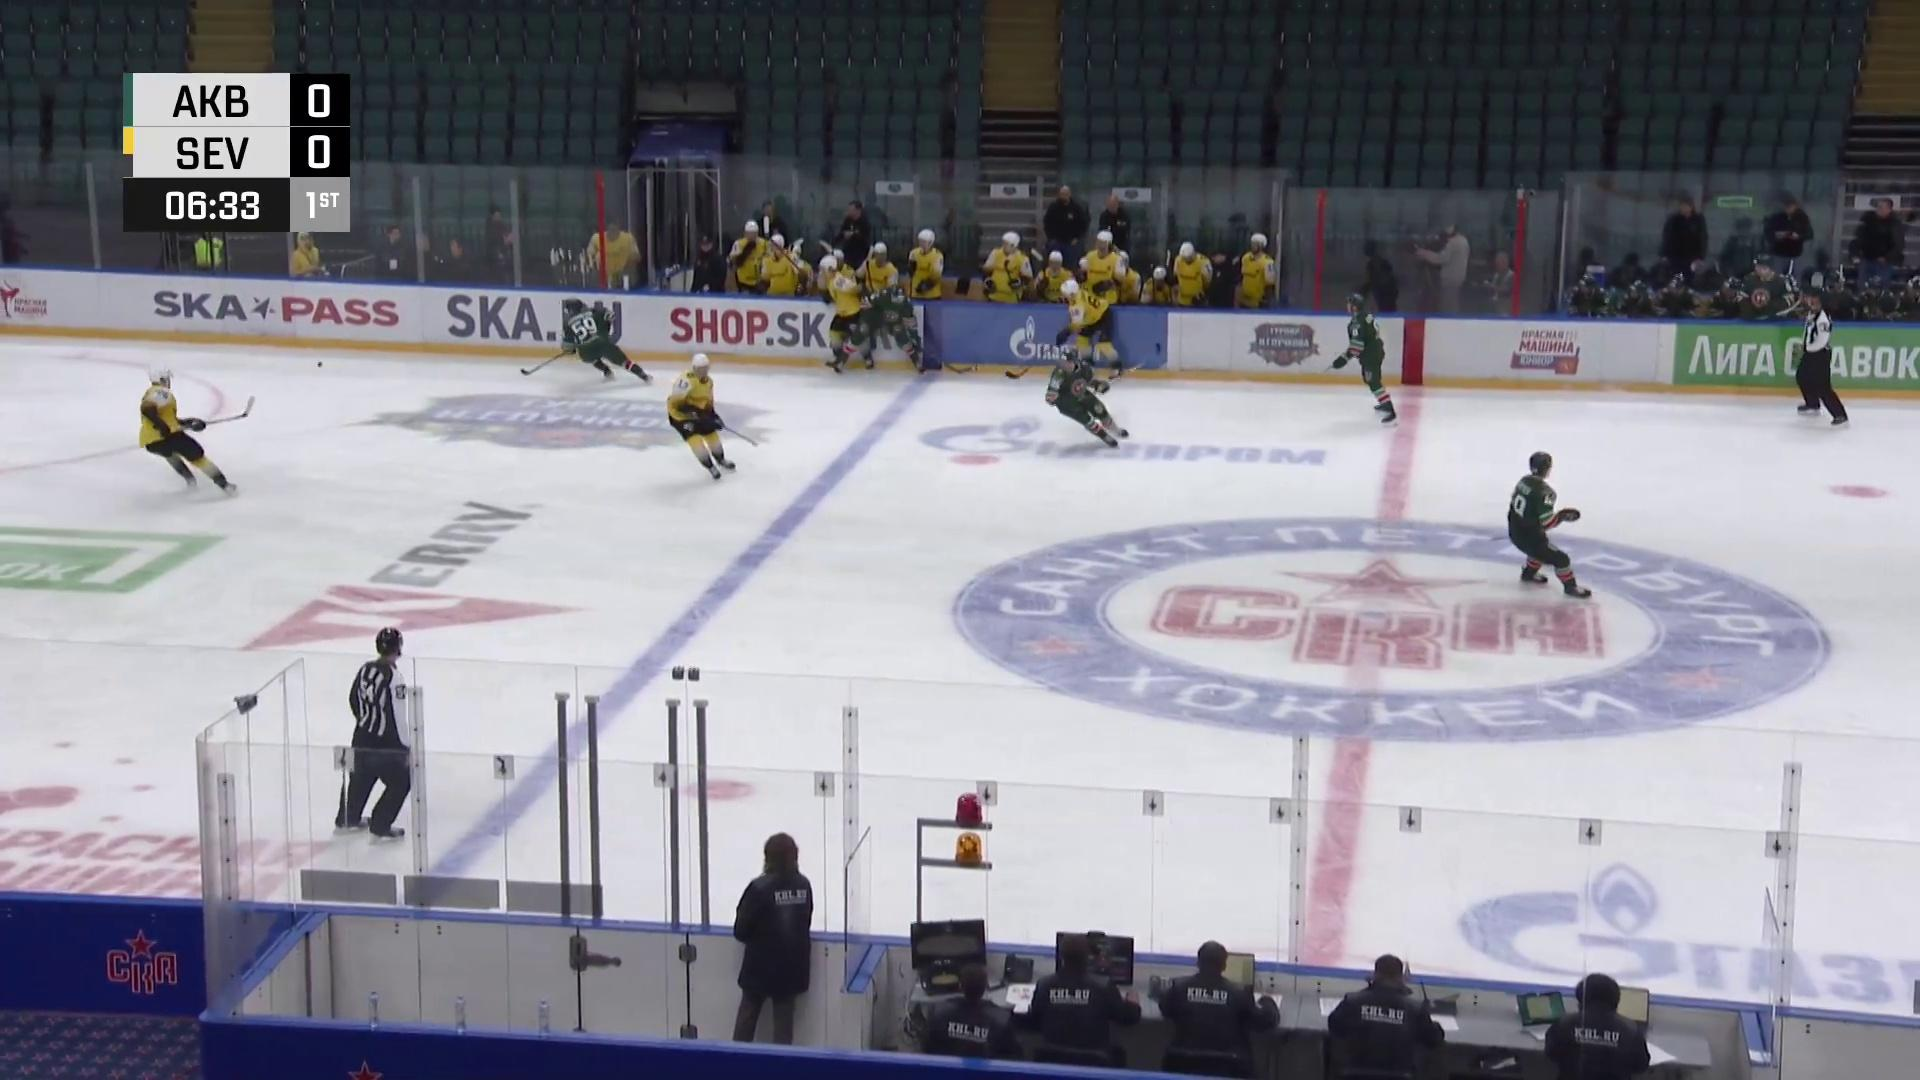ball: (317, 362, 324, 369)
